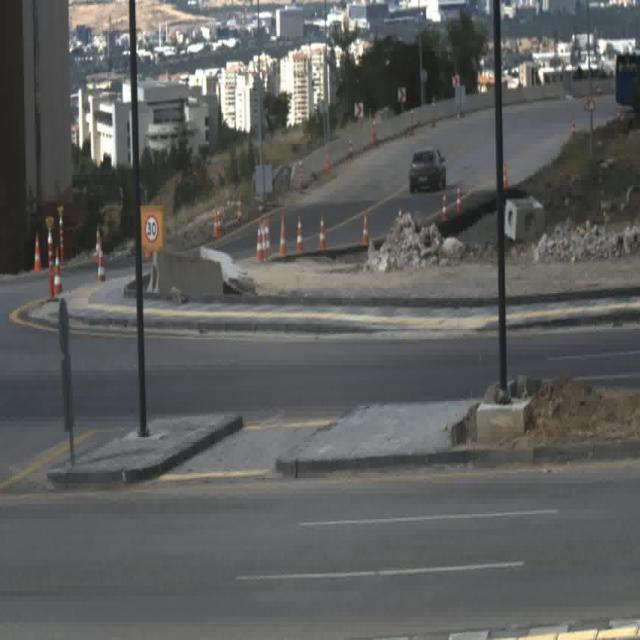Bus: (613, 50, 640, 111)
Car: (410, 144, 446, 192)
